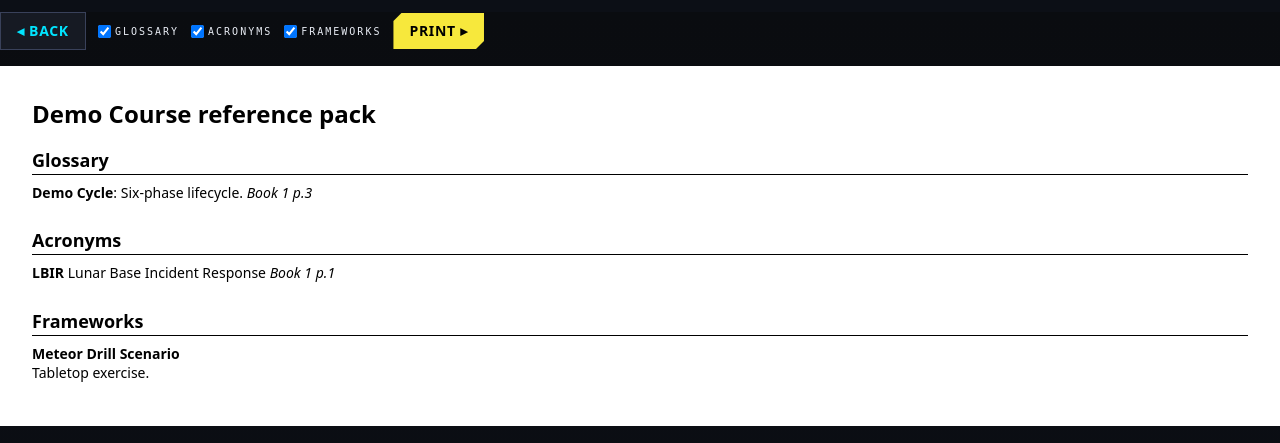
section toggles remove sections
The width and height of the screenshot is (1280, 443).
Expected: the element with test id "ref-frameworks" is shown, [32,306,1248,382]
Click the checkbox labelled "FRAMEWORKS".
click(291, 31)  # box [284,24,297,38]
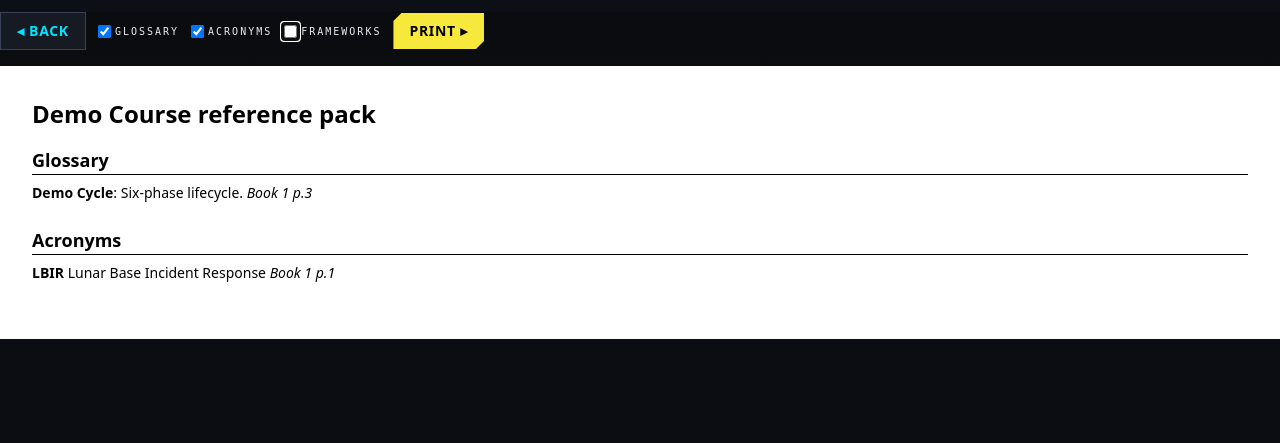
Now the element with test id "ref-frameworks" is gone
